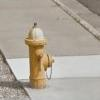a fire hydrant: (22, 22, 56, 89)
